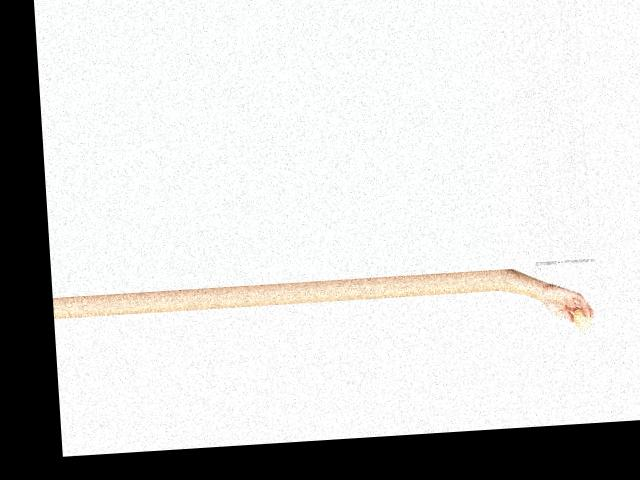egg: (572, 306, 591, 332)
